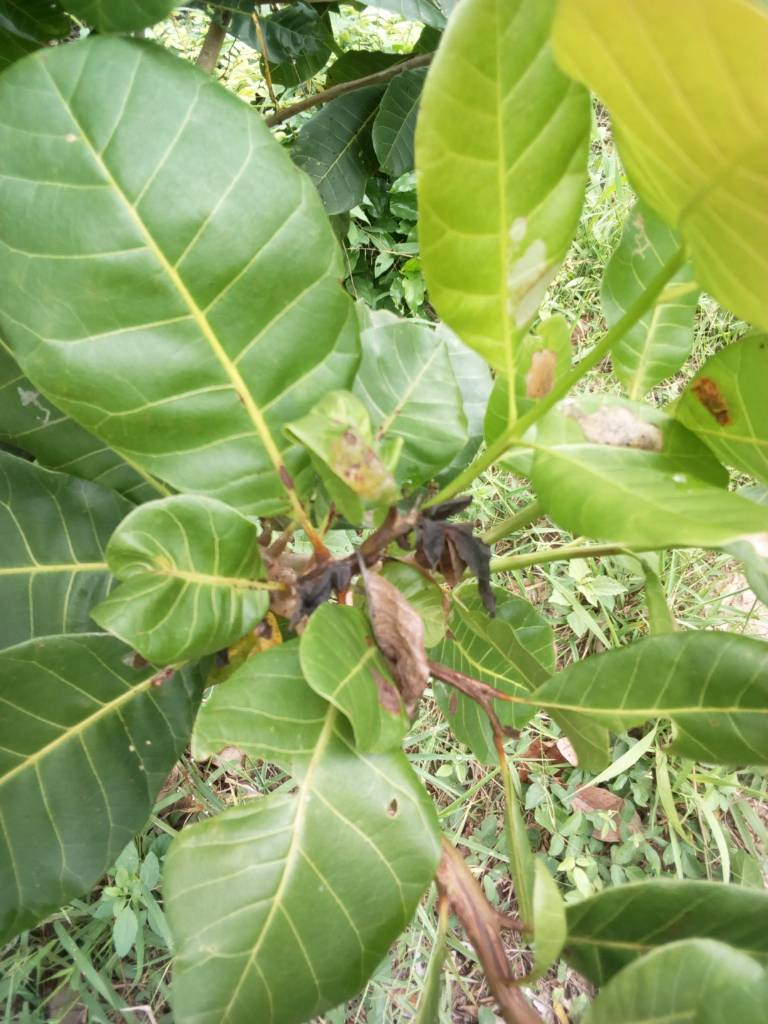Dessèchement des bourgeons: (400, 499, 499, 605), (277, 539, 369, 611)
